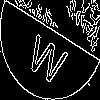W: (25, 25, 72, 87)
